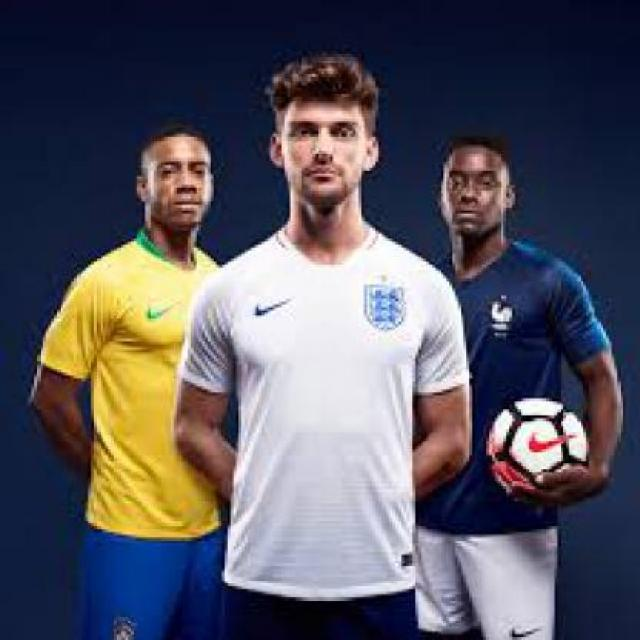Nike: (245, 290, 299, 319), (523, 424, 576, 452), (136, 296, 176, 322), (502, 617, 544, 637)
